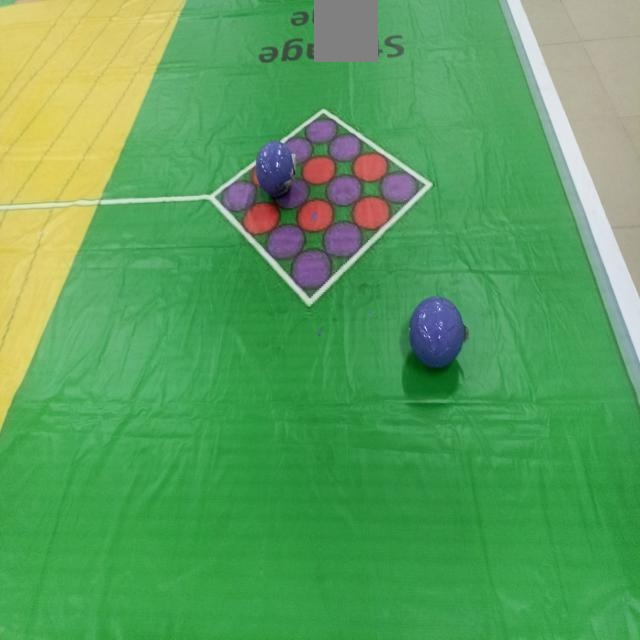purple_ball: (407, 291, 468, 375), (254, 139, 294, 196)
